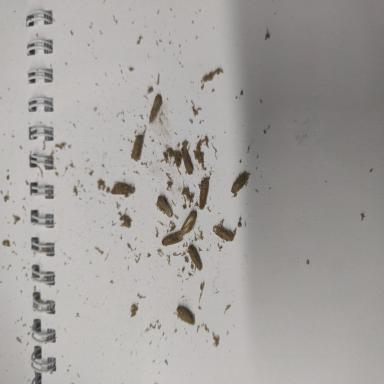pbw: (175, 147, 196, 177), (152, 192, 174, 220), (186, 242, 204, 272), (228, 170, 248, 194), (158, 231, 185, 248), (176, 299, 194, 324), (113, 173, 133, 195), (148, 91, 162, 122), (131, 132, 145, 160), (183, 210, 198, 236), (213, 222, 232, 242), (196, 180, 211, 205)
